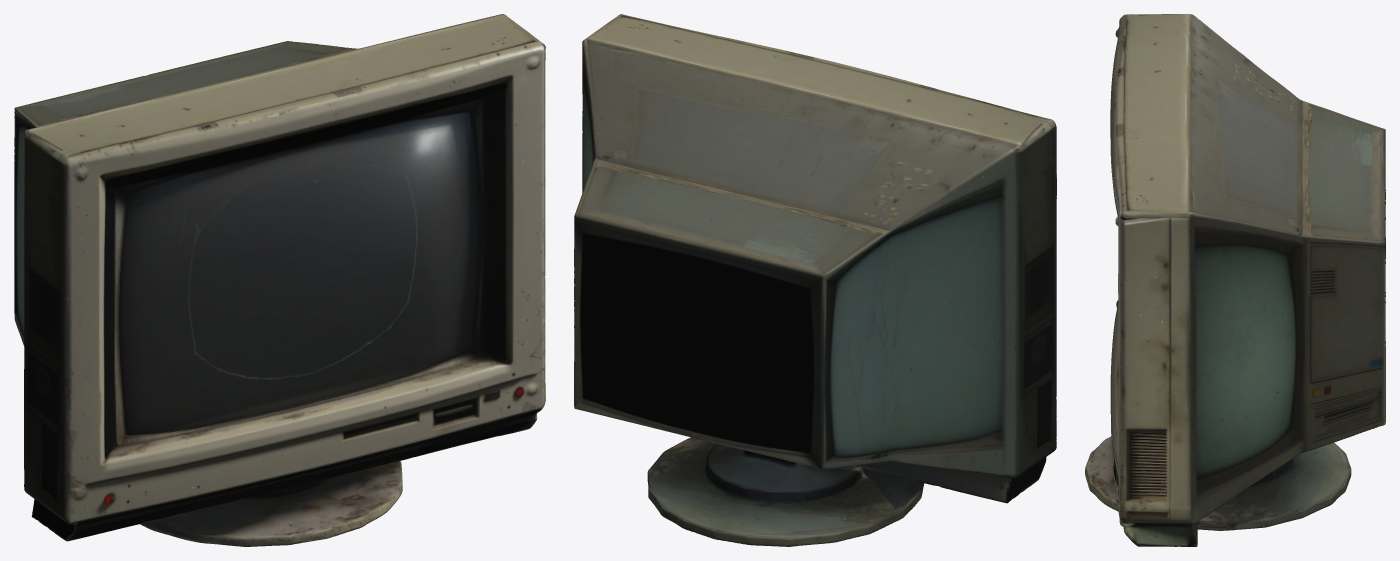
Rendered from meshy_1780591208528.glb.
3 renders of one model, left to right at view 1: azimuth 30°, elevation 25°; view 2: azimuth 150°, elevation 25°; view 3: azimuth 270°, elevation 25°, orthographic. The views are drawn at different scales.
Size of the model in its own units: 2 by 1.68 by 1.26.
1 material, 1 textured.
